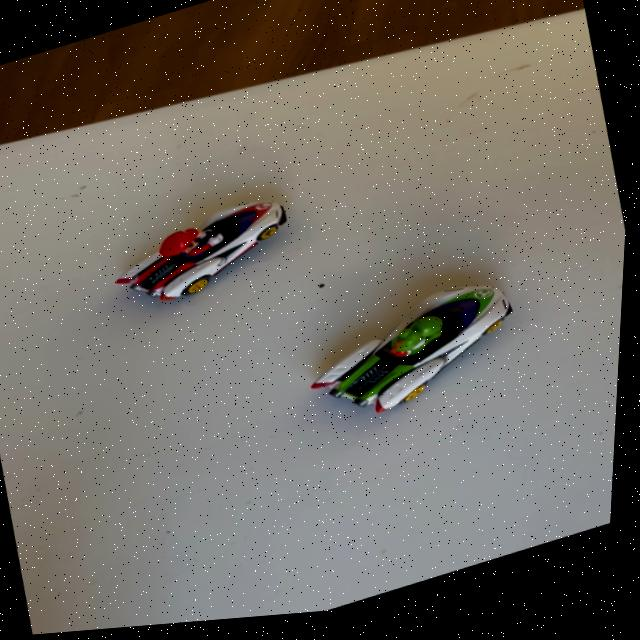mario: (89, 184, 318, 331)
yoshi: (284, 268, 551, 454)
